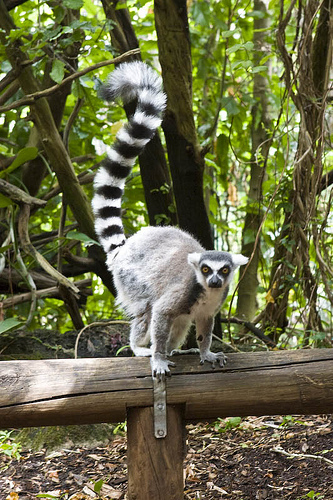cat: (87, 60, 247, 382)
